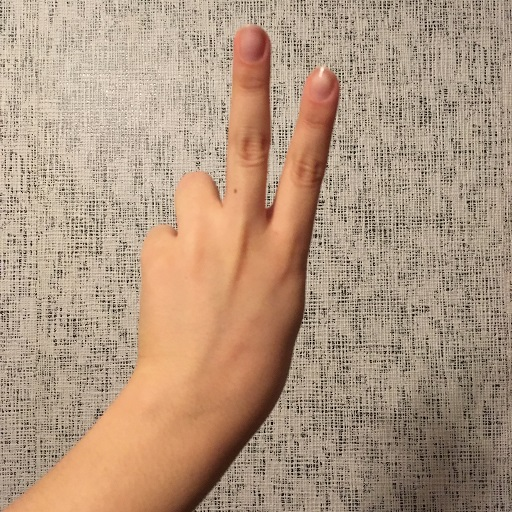hand: (155, 37, 319, 385)
